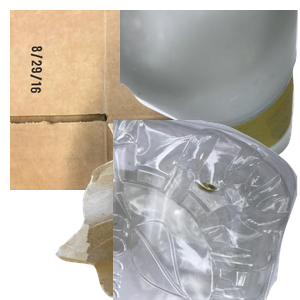cardboard: (10, 10, 250, 190)
glass: (120, 10, 300, 160)
plastic: (113, 120, 300, 300)
trash: (53, 121, 239, 300)
